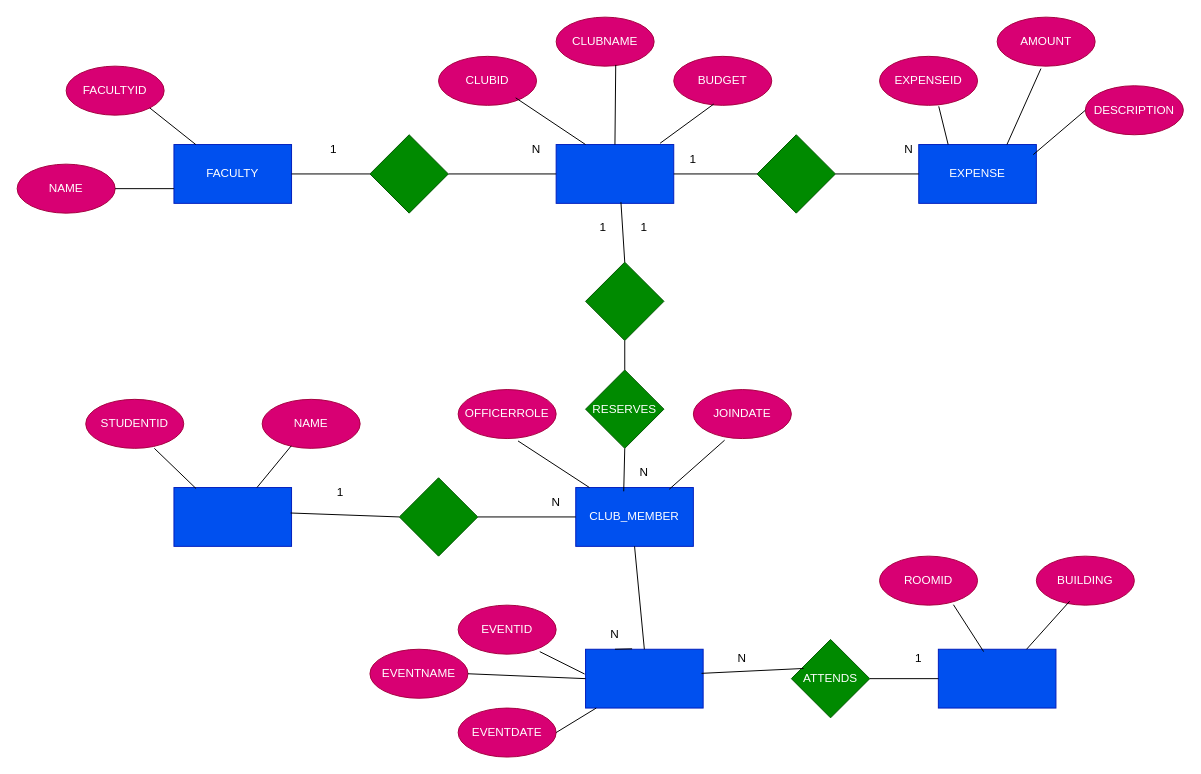
The diagram is 1201 pixels wide and 774 high, and some of its shapes have lost their labels. Here are the shapes that lost their labels. From the top down, the centre of each, then its label:
At pixel 408 173: "ADVISES".
At pixel 614 173: "CLUB".
At pixel 795 173: "INCURS".
At pixel 624 301: "HOLDS".
At pixel 232 516: "STUDENT".
At pixel 438 516: "JOINS".
At pixel 644 678: "EVENT".
At pixel 996 678: "ROOM".
